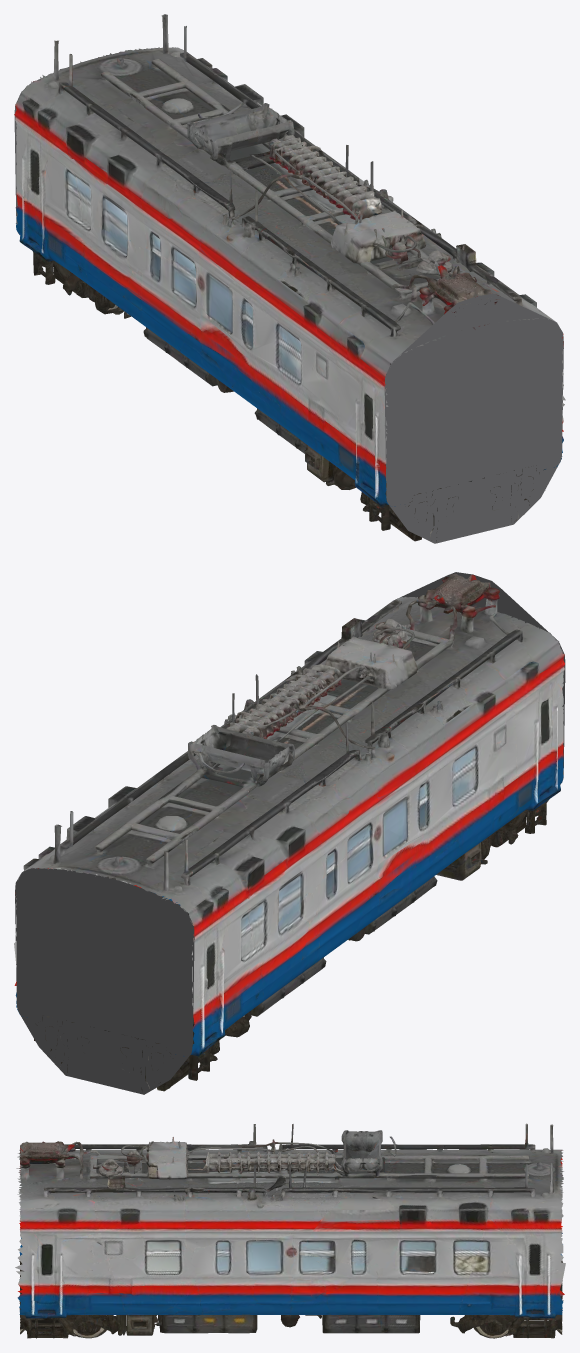
File: tr-el-car.glb
3 views of the same model, one above another, from view 1: azimuth 30°, elevation 25°; view 2: azimuth 150°, elevation 25°; view 3: azimuth 270°, elevation 25° (orthographic). The views are drawn at different scales.
Visible parts, largest first — view 1: car, gangway; view 2: car, gangway.001, gangway; view 3: car.
Part boxes in pixels (bbox=[...]): car: bbox=[14, 14, 565, 542]; gangway: bbox=[384, 294, 563, 543]; car: bbox=[14, 573, 564, 1094]; gangway.001: bbox=[15, 868, 194, 1094]; gangway: bbox=[393, 572, 565, 802]; car: bbox=[15, 1123, 565, 1338].
Size of the model in its own units: 0.3957 by 0.5157 by 1.43.
Materials: 2 (1 with a texture image).
